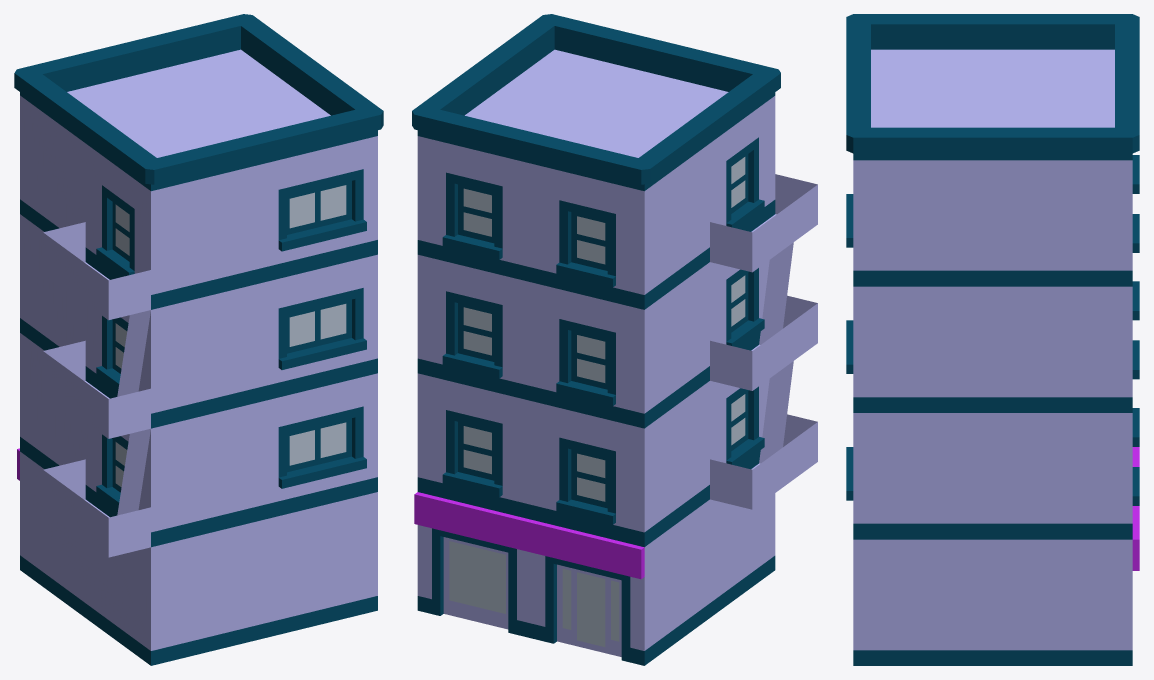
Rendered from Building.glb.
3 views of the same model, side by side, from view 1: azimuth 30°, elevation 25°; view 2: azimuth 150°, elevation 25°; view 3: azimuth 270°, elevation 25° (orthographic). The views are drawn at different scales.
Parts seen in each view (by area): view 1: large_buildingC; view 2: large_buildingC; view 3: large_buildingC.
Boxes of the visible parts, x1,y1,x2,y2 form: large_buildingC: [14, 14, 383, 665]; large_buildingC: [412, 14, 817, 665]; large_buildingC: [846, 14, 1139, 665].
Bounding box in the file's own units: 0.97 × 1.68 × 0.84.
